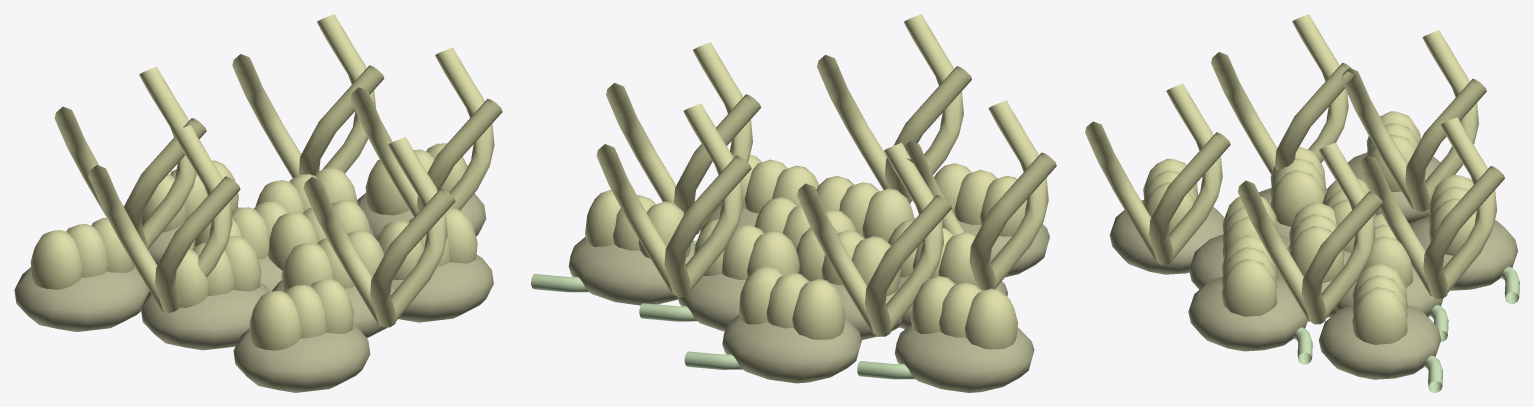
File: bio_acid_mat_04_far.glb
3 views of the same model, side by side, from view 1: azimuth 30°, elevation 25°; view 2: azimuth 150°, elevation 25°; view 3: azimuth 270°, elevation 25° (orthographic). The views are drawn at different scales.
Visible parts, largest first — view 1: Spiral filament.006, Spiral filament.012, Spiral filament.009, Spiral filament, Spiral filament.003, Microbial cushion.007, Microbial cushion.009, Reaction vesicle.021, Reaction vesicle.027, Microbial cushion.004, Microbial cushion.005, Reaction vesicle.012 (+11 smaller); view 2: Spiral filament.009, Spiral filament.003, Spiral filament.006, Spiral filament.012, Spiral filament, Microbial cushion.006, Microbial cushion.009, Reaction vesicle.018, Reaction vesicle.027, Microbial cushion.008, Reaction vesicle.006, Reaction vesicle.009 (+13 smaller); view 3: Spiral filament.006, Spiral filament, Spiral filament.009, Spiral filament.003, Spiral filament.012, Microbial cushion.008, Microbial cushion.005, Reaction vesicle.024, Reaction vesicle.015, Microbial cushion.007, Reaction vesicle.012, Microbial cushion.006 (+14 smaller).
Boxes of the visible parts, <box> form: Spiral filament.006: <box>303,137,455,327</box>; Spiral filament.012: <box>88,125,240,313</box>; Spiral filament.009: <box>232,14,384,177</box>; Spiral filament: <box>350,47,502,217</box>; Spiral filament.003: <box>54,66,206,249</box>; Microbial cushion.007: <box>233,325,370,392</box>; Microbial cushion.009: <box>14,266,149,331</box>; Reaction vesicle.021: <box>249,278,353,350</box>; Reaction vesicle.027: <box>30,218,134,289</box>; Microbial cushion.004: <box>140,283,270,350</box>; Microbial cushion.005: <box>391,255,493,322</box>; Reaction vesicle.012: <box>175,236,261,307</box>; Spiral filament.009: <box>596,103,751,297</box>; Spiral filament.003: <box>797,143,951,336</box>; Spiral filament.006: <box>817,14,971,204</box>; Spiral filament.012: <box>904,100,1056,290</box>; Spiral filament: <box>606,42,760,234</box>; Microbial cushion.006: <box>722,314,861,383</box>; Microbial cushion.009: <box>895,324,1034,392</box>; Reaction vesicle.018: <box>739,266,845,339</box>; Reaction vesicle.027: <box>911,276,1017,349</box>; Microbial cushion.008: <box>568,237,695,305</box>; Reaction vesicle.006: <box>816,175,914,242</box>; Reaction vesicle.009: <box>694,219,799,279</box>; Spiral filament.006: <box>1085,83,1230,265</box>; Spiral filament: <box>1237,142,1383,324</box>; Spiral filament.009: <box>1359,117,1504,298</box>; Spiral filament.003: <box>1341,30,1486,211</box>; Spiral filament.012: <box>1211,14,1356,174</box>; Microbial cushion.008: <box>1318,305,1441,379</box>; Microbial cushion.005: <box>1188,276,1307,351</box>; Reaction vesicle.024: <box>1352,263,1407,344</box>; Reaction vesicle.015: <box>1222,235,1277,316</box>; Microbial cushion.007: <box>1109,200,1224,274</box>; Reaction vesicle.012: <box>1270,147,1325,226</box>; Microbial cushion.006: <box>1410,216,1517,290</box>.
Bounding box in the file's own units: 1.83 × 0.7408 × 1.56.
